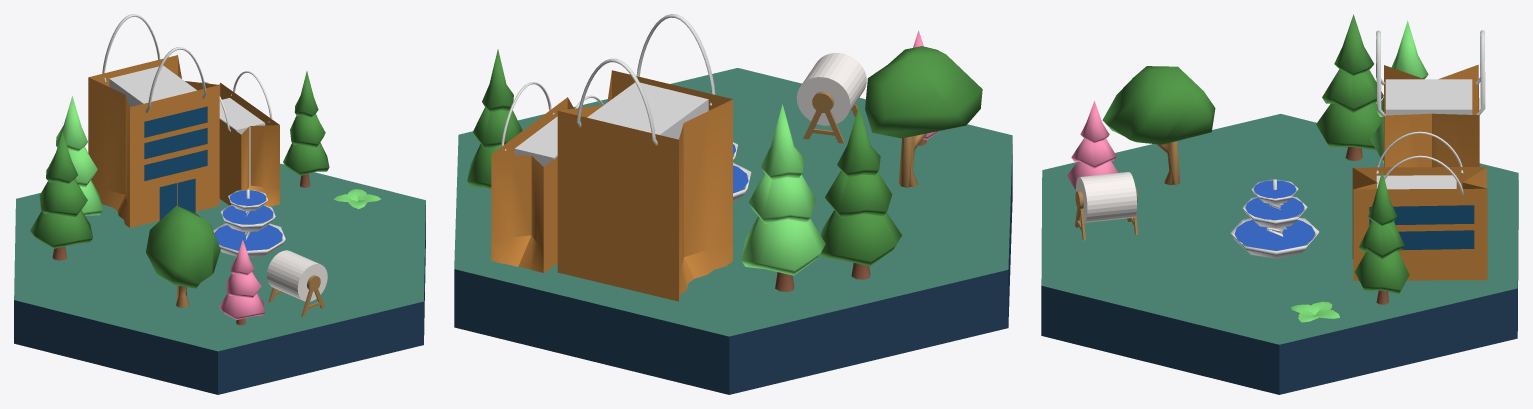
Rendered from Macro - Shop lvl 1 WM2.fbx.
The picture shows the model from 3 angles, left to right: view 1: azimuth 30°, elevation 25°; view 2: azimuth 150°, elevation 25°; view 3: azimuth 270°, elevation 25°; orthographic projection. The views are drawn at different scales.
Visible parts, largest first — view 1: Cylinder.179, Circle.006, Circle.005, tree1 v:88 f:56, Tree_Spruce_tiny_01.002, Cube.018, Tree_Spruce_tiny_01.007, Tree_Spruce_tiny_01.001, Tree_Spruce_tiny_01.005, Cylinder.011, Cube.138, Plane.007 (+6 smaller); view 2: Cylinder.179, Circle.006, tree1 v:88 f:56, Circle.005, Tree_Spruce_tiny_01.005, Tree_Spruce_tiny_01.002, Cube.138, Tree_Spruce_tiny_01.007, Cylinder.011, Cube.139, Cube.018; view 3: Cylinder.179, Circle.005, tree1 v:88 f:56, Circle.006, Tree_Spruce_tiny_01.002, Cube.018, Tree_Spruce_tiny_01.007, Cube.138, Cylinder.011, Tree_Spruce_tiny_01.001, Plane.004, Plane.006 (+3 smaller).
Part boxes in pixels (bbox=[...]): Cylinder.179: bbox=[14, 163, 425, 394]; Circle.006: bbox=[88, 14, 219, 227]; Circle.005: bbox=[201, 71, 279, 206]; tree1 v:88 f:56: bbox=[146, 205, 220, 307]; Tree_Spruce_tiny_01.002: bbox=[30, 132, 92, 260]; Cube.018: bbox=[213, 189, 285, 257]; Tree_Spruce_tiny_01.007: bbox=[283, 71, 329, 187]; Tree_Spruce_tiny_01.001: bbox=[219, 240, 265, 325]; Tree_Spruce_tiny_01.005: bbox=[40, 96, 102, 215]; Cylinder.011: bbox=[267, 250, 327, 301]; Cube.138: bbox=[109, 65, 196, 106]; Plane.007: bbox=[144, 106, 207, 137]; Cylinder.179: bbox=[454, 68, 1012, 394]; Circle.006: bbox=[557, 14, 732, 301]; tree1 v:88 f:56: bbox=[865, 46, 982, 187]; Circle.005: bbox=[491, 82, 603, 272]; Tree_Spruce_tiny_01.005: bbox=[741, 104, 825, 291]; Tree_Spruce_tiny_01.002: bbox=[820, 106, 901, 279]; Cube.138: bbox=[587, 82, 708, 139]; Tree_Spruce_tiny_01.007: bbox=[467, 49, 522, 188]; Cylinder.011: bbox=[796, 53, 866, 125]; Cube.139: bbox=[514, 116, 557, 166]; Cube.018: bbox=[733, 142, 751, 201]; Cylinder.179: bbox=[1041, 114, 1518, 394]; Circle.005: bbox=[1352, 131, 1487, 280]; tree1 v:88 f:56: bbox=[1102, 66, 1215, 185]; Circle.006: bbox=[1376, 30, 1485, 167]; Tree_Spruce_tiny_01.002: bbox=[1316, 14, 1383, 160]; Cube.018: bbox=[1230, 179, 1319, 258]; Tree_Spruce_tiny_01.007: bbox=[1355, 171, 1409, 304]; Cube.138: bbox=[1385, 79, 1472, 115]; Cylinder.011: bbox=[1076, 172, 1137, 222]; Tree_Spruce_tiny_01.001: bbox=[1067, 101, 1118, 189]; Plane.004: bbox=[1369, 205, 1474, 225]; Plane.006: bbox=[1399, 230, 1474, 250].
Bounding box in the file's own units: 197 × 98.68 × 172.
